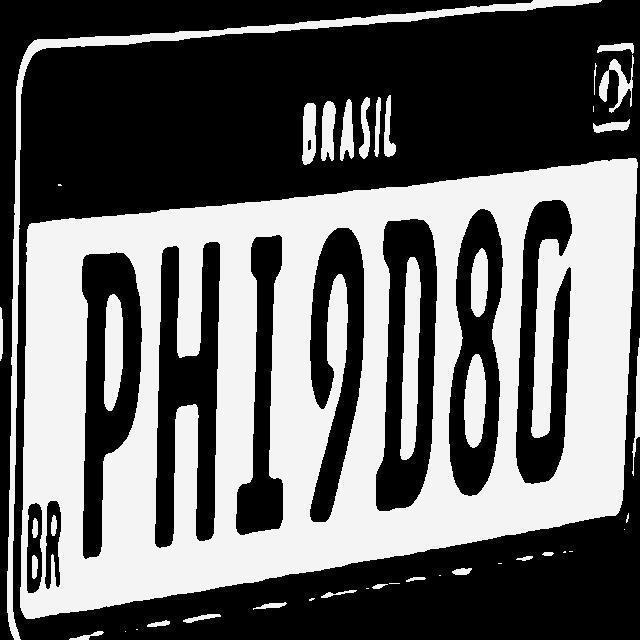0: (513, 200, 577, 489)
8: (443, 210, 512, 504)
9: (302, 224, 364, 531)
d: (373, 215, 443, 524)
h: (150, 239, 224, 553)
i: (234, 237, 288, 547)
p: (79, 256, 142, 566)
